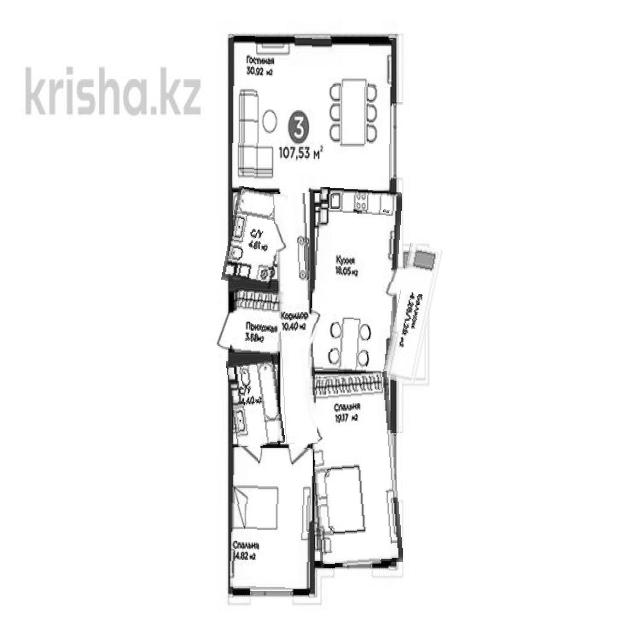balcony: (389, 244, 436, 384)
bathroom: (225, 188, 284, 287), (229, 356, 283, 447)
hallway: (277, 193, 315, 444), (231, 288, 282, 354)
kitchen: (310, 188, 399, 373)
living_room: (229, 37, 393, 192), (308, 372, 399, 567), (230, 447, 312, 589)
